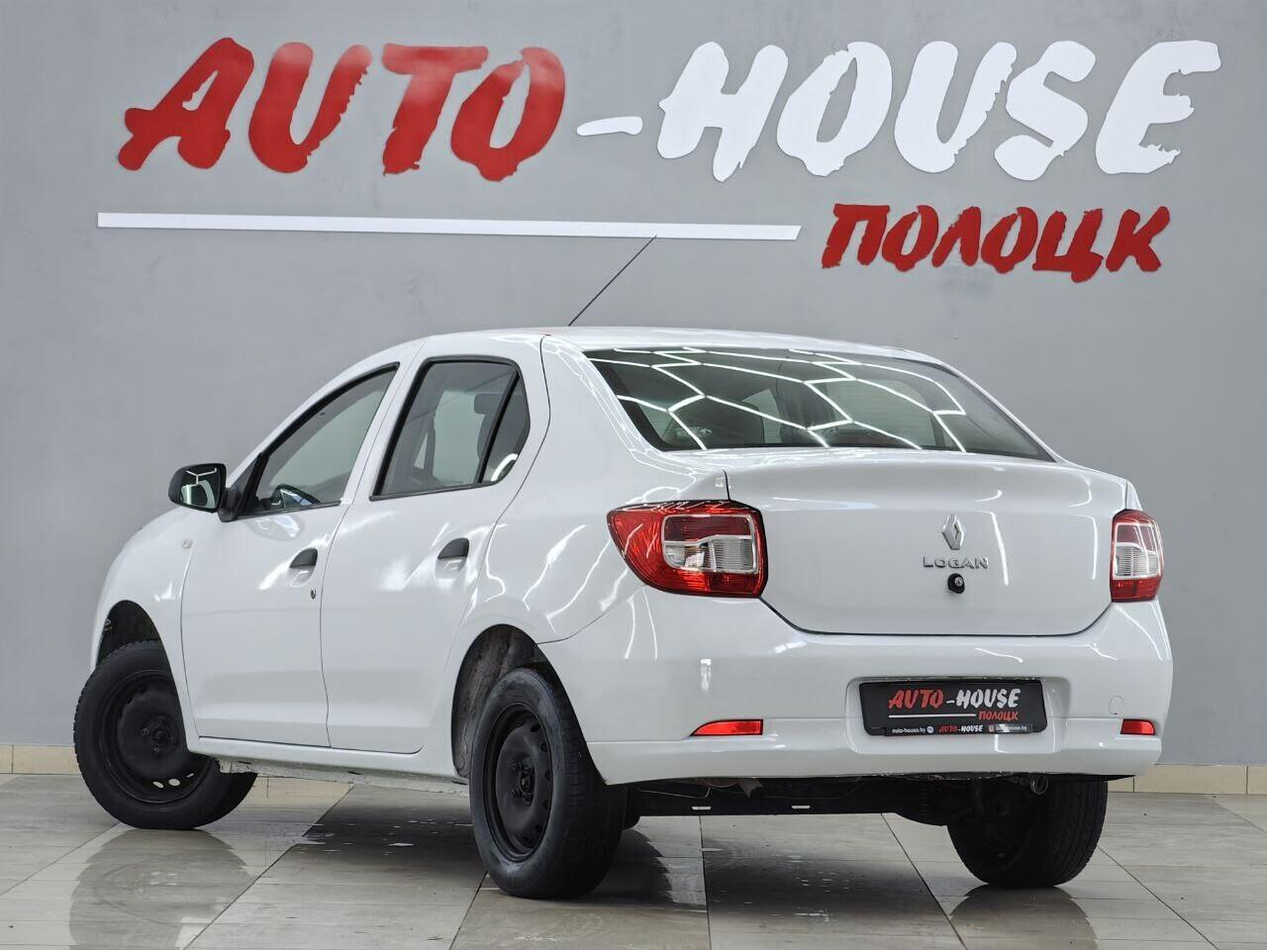Logan_2013-2018: (73, 315, 1177, 915)
